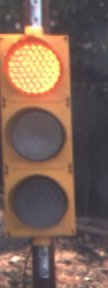Red: (1, 32, 86, 249)
